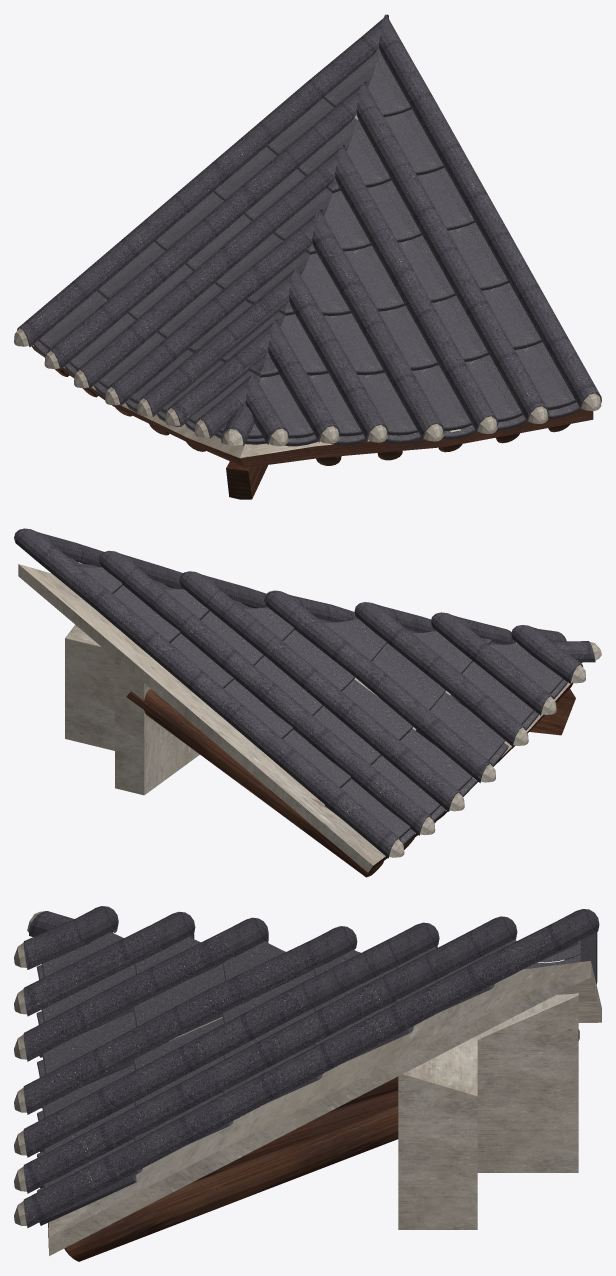
Rendered from SM_R_RoofCorner_4.fbx.
3 renders of one model, top to bottom at view 1: azimuth 30°, elevation 25°; view 2: azimuth 150°, elevation 25°; view 3: azimuth 270°, elevation 25°, orthographic. The views are drawn at different scales.
Visible parts, largest first — view 1: SM_R_RoofCorner_4; view 2: SM_R_RoofCorner_4; view 3: SM_R_RoofCorner_4.
Boxes of the visible parts, left/top/right/bottom form: SM_R_RoofCorner_4: left=14, top=14, right=601, bottom=499; SM_R_RoofCorner_4: left=14, top=528, right=601, bottom=877; SM_R_RoofCorner_4: left=14, top=906, right=601, bottom=1261.
Bounding box in the file's own units: 270 × 271 × 184.
4 materials, 4 textured.
